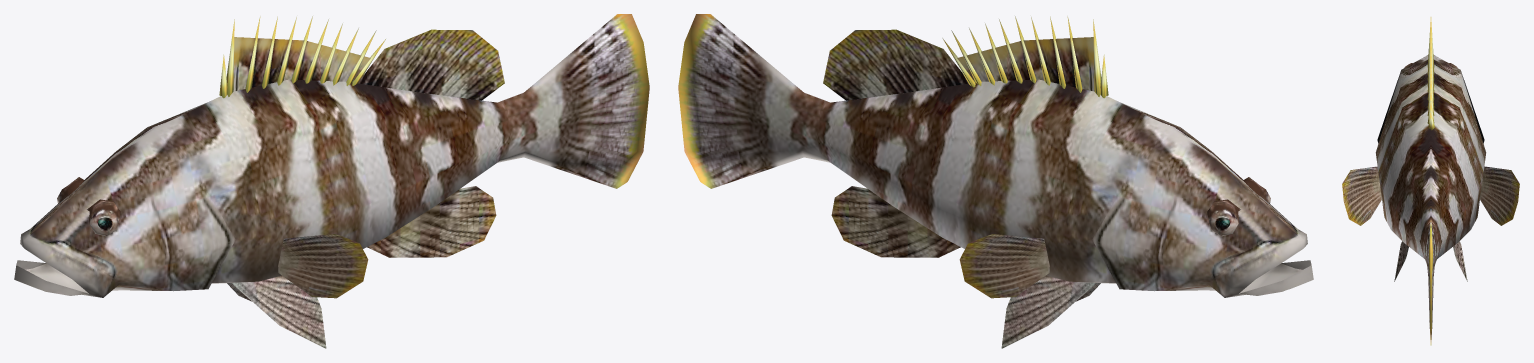
Rendered from SG_obj_FishGrouper.FBX.
3 renders of one model, left to right at view 1: azimuth 30°, elevation 25°; view 2: azimuth 150°, elevation 25°; view 3: azimuth 270°, elevation 25°, orthographic. The views are drawn at different scales.
Visible parts, largest first — view 1: SG_obj_FishGrouper; view 2: SG_obj_FishGrouper; view 3: SG_obj_FishGrouper.
Boxes of the visible parts, <box> form: SG_obj_FishGrouper: <box>14,14,649,348</box>; SG_obj_FishGrouper: <box>678,14,1313,348</box>; SG_obj_FishGrouper: <box>1342,17,1519,345</box>.
Size of the model in its own units: 226 by 112 by 73.94.
